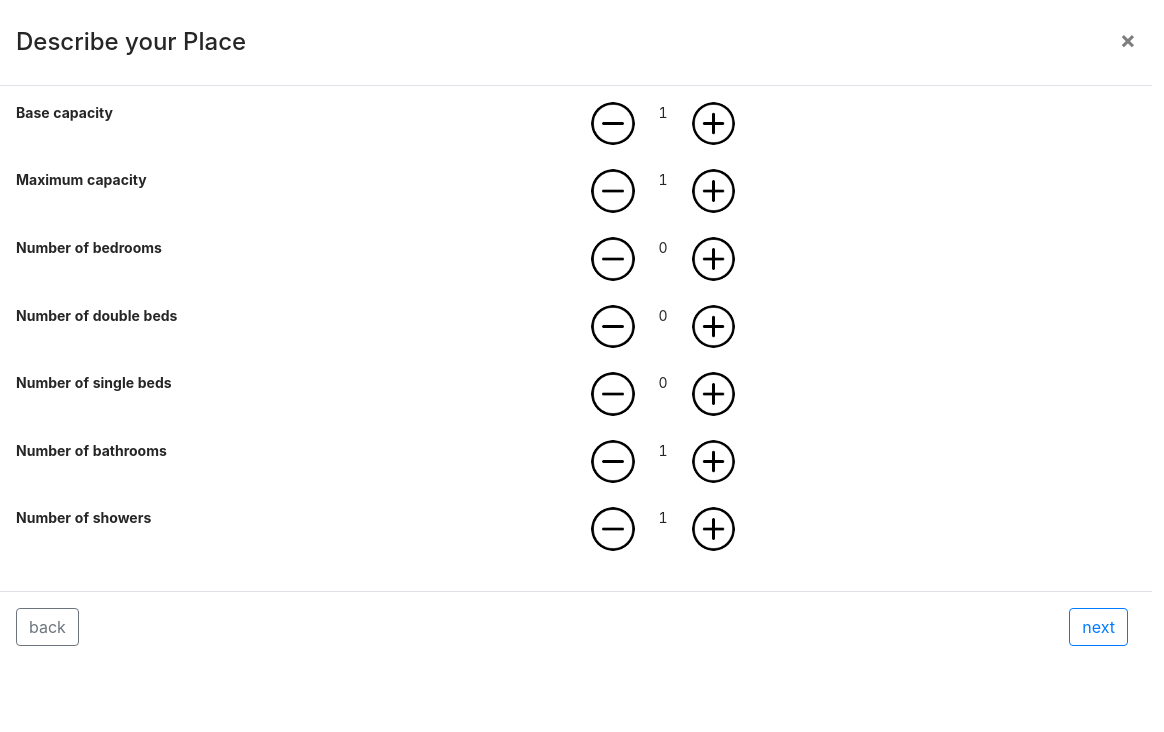
Test: Bedrooms counter increments
Click the picture with test id "bedroomPlus" at (714, 259), box x1=692 y1=237 x2=735 y2=281
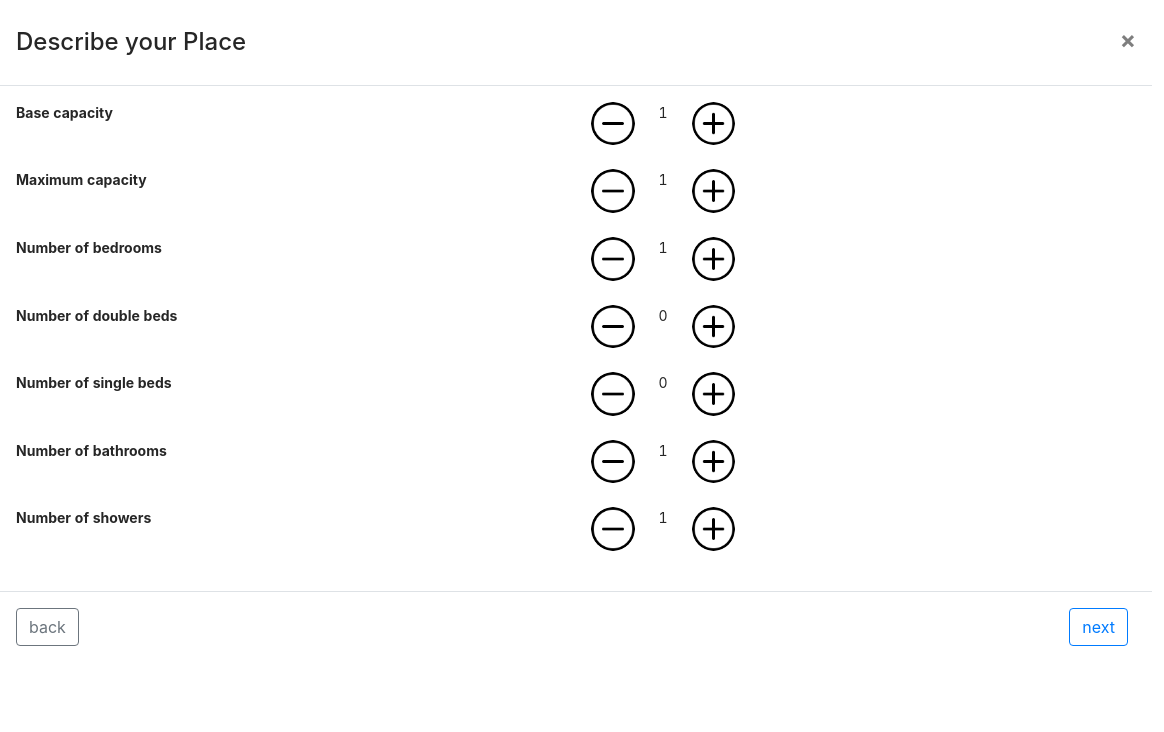
Now the text with test id "amentities-bedrooms" reads "1", box x1=659 y1=239 x2=668 y2=256
